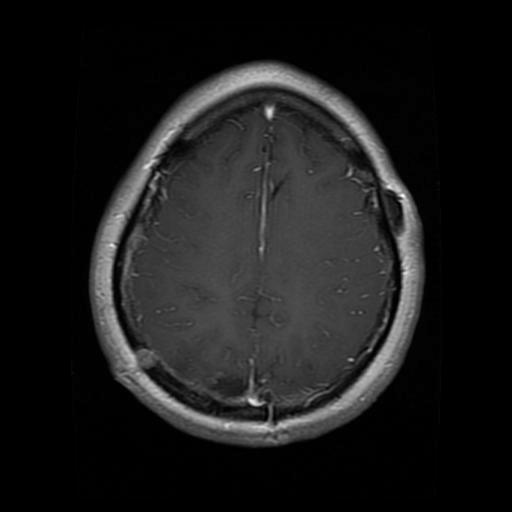Tumour-Glioma: (198, 348, 280, 417)
